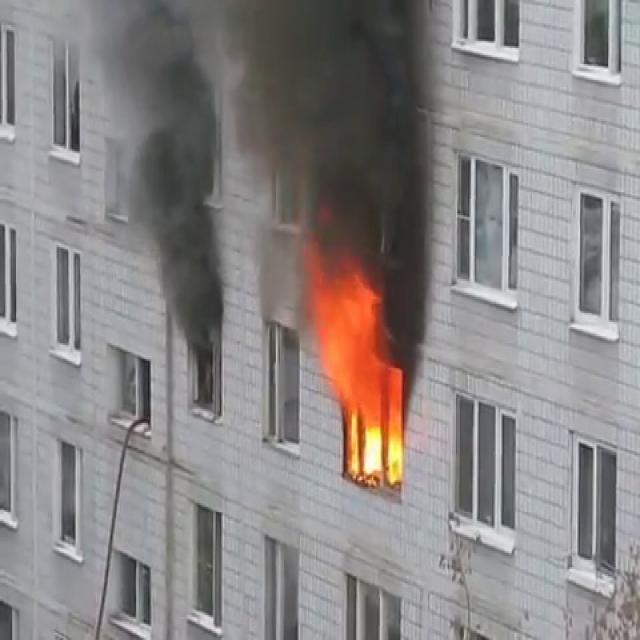Fire: (310, 253, 410, 488)
Smoke: (64, 0, 451, 327)
